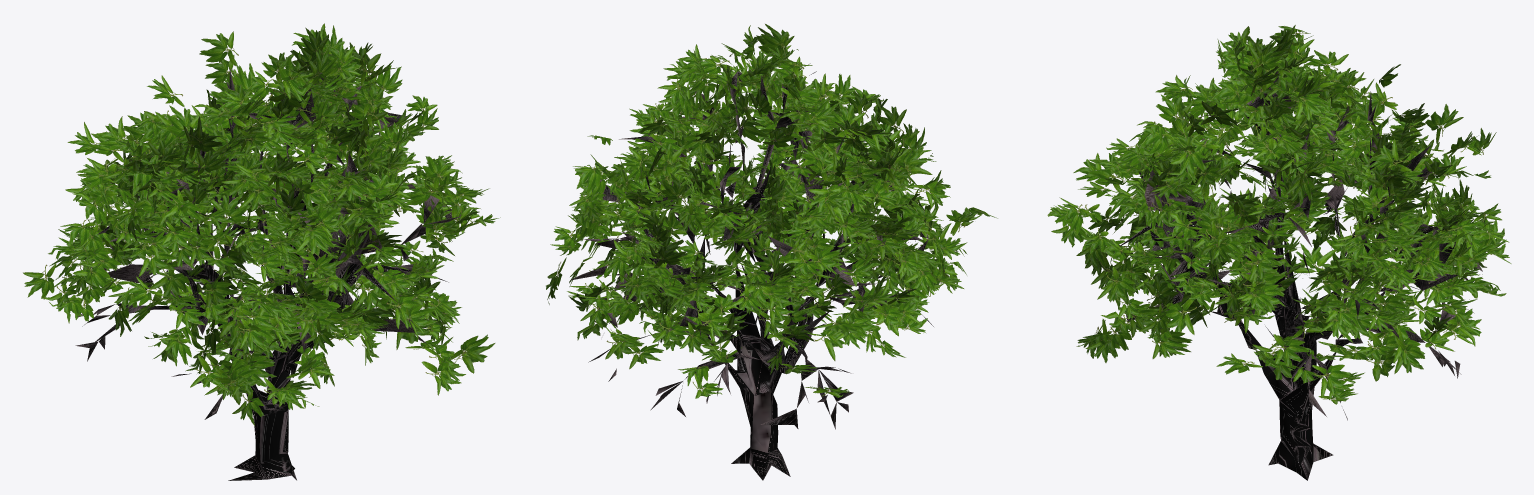
The model's file is neem.low.glb.
3 views of the same model, side by side, from view 1: azimuth 30°, elevation 25°; view 2: azimuth 150°, elevation 25°; view 3: azimuth 270°, elevation 25° (orthographic). The views are drawn at different scales.
Parts seen in each view (by area): view 1: leaves, trunk; view 2: leaves, trunk; view 3: leaves, trunk.
Boxes of the visible parts, x1,y1,x2,y2 form: leaves: (23, 23, 500, 425); trunk: (75, 67, 461, 480); leaves: (546, 24, 997, 398); trunk: (571, 71, 960, 480); leaves: (1047, 25, 1511, 404); trunk: (1117, 71, 1482, 480).
Bounding box in the file's own units: 6.73 × 7.09 × 6.92.
2 materials, 2 textured.
